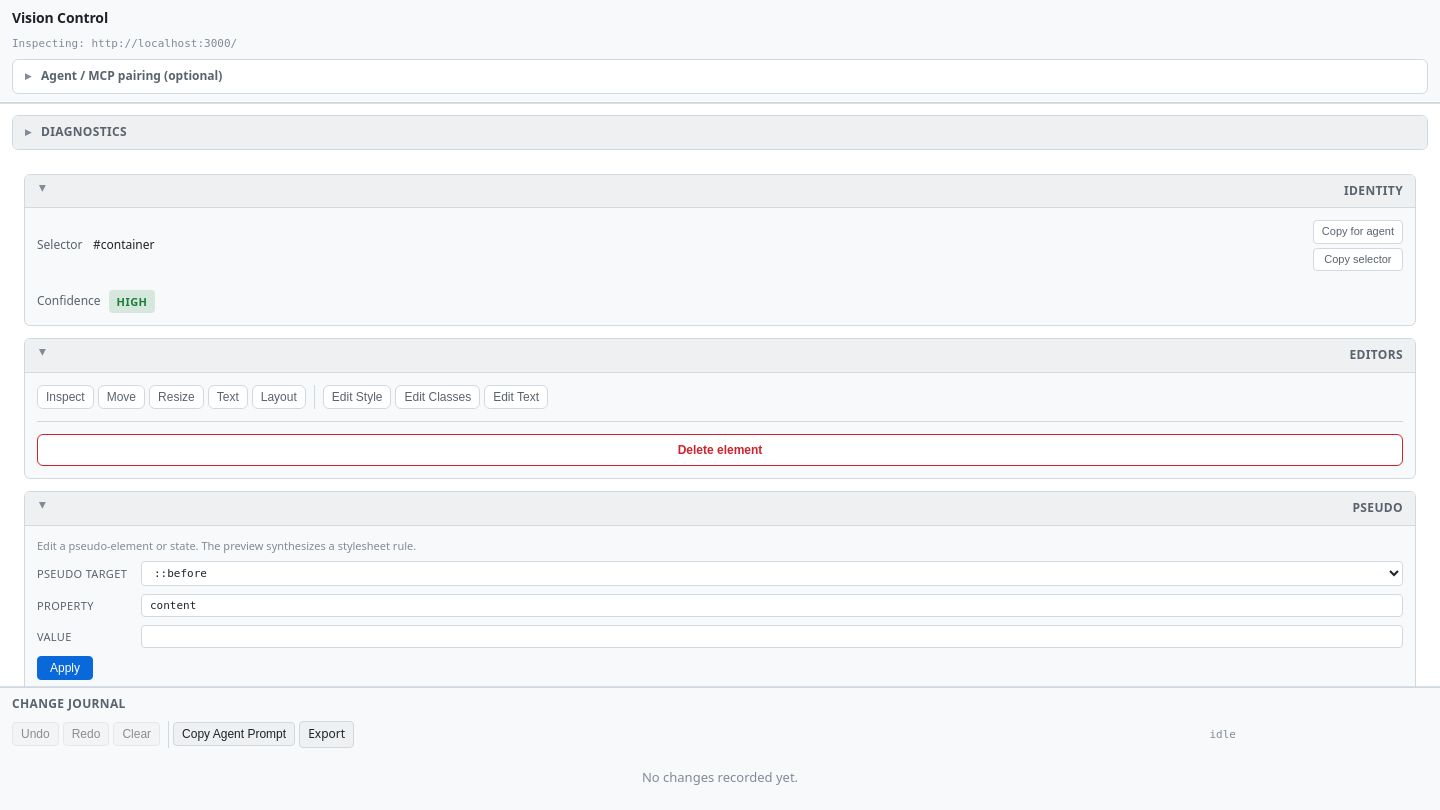
it: App context and optional pairing › reports a failed selection context copy
Expected: the text with test id "inspected-url" shows "http://localhost:3000/", x1=92 y1=37 x2=237 y2=50
Click the button "Copy for agent".
click(1358, 232)  # box x1=1313 y1=220 x2=1403 y2=244
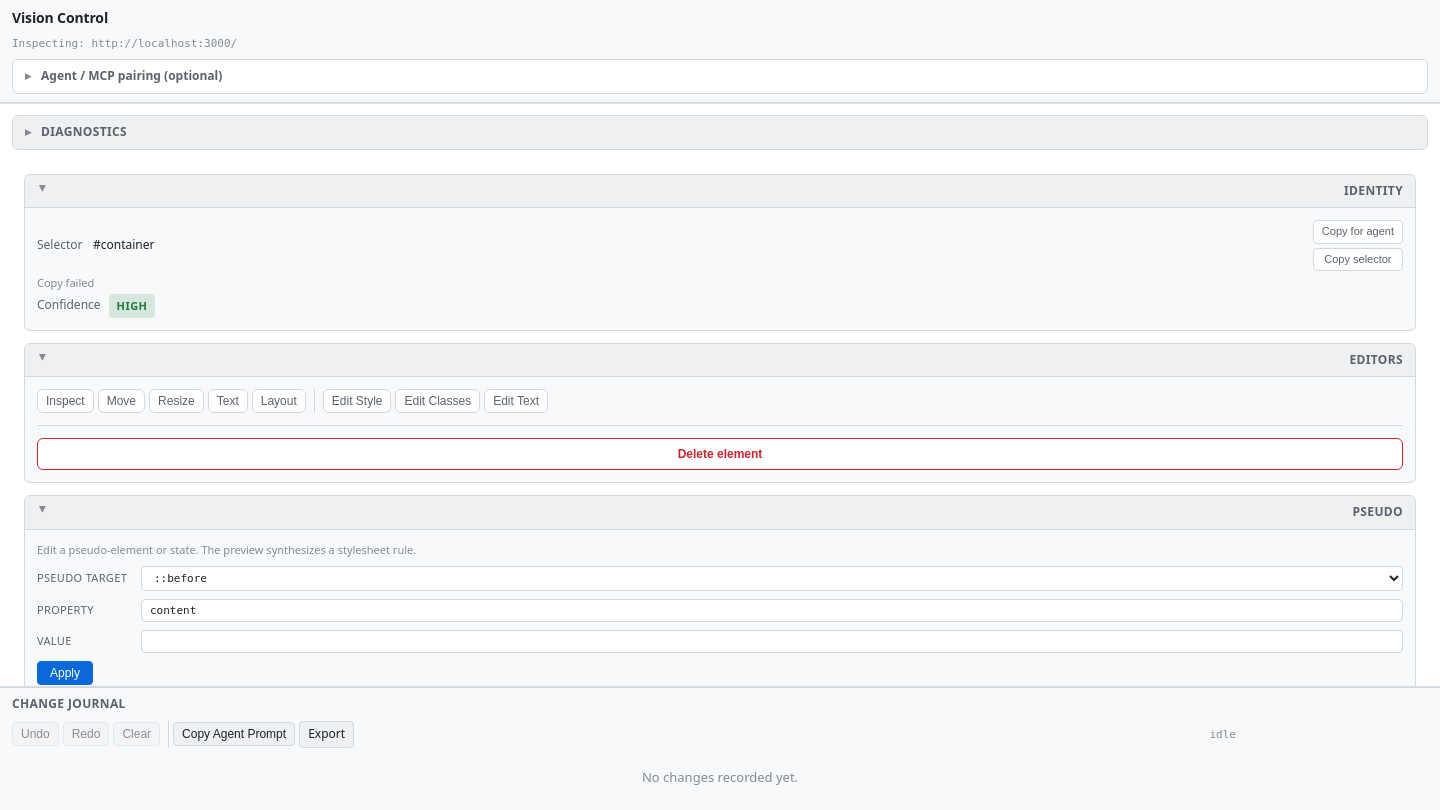
Expected: the text with test id "selection-copy-status" reads "Copy failed", x1=37 y1=275 x2=94 y2=290
